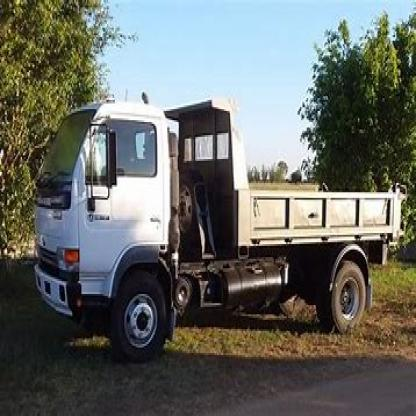dump_truck: (24, 87, 408, 368)
